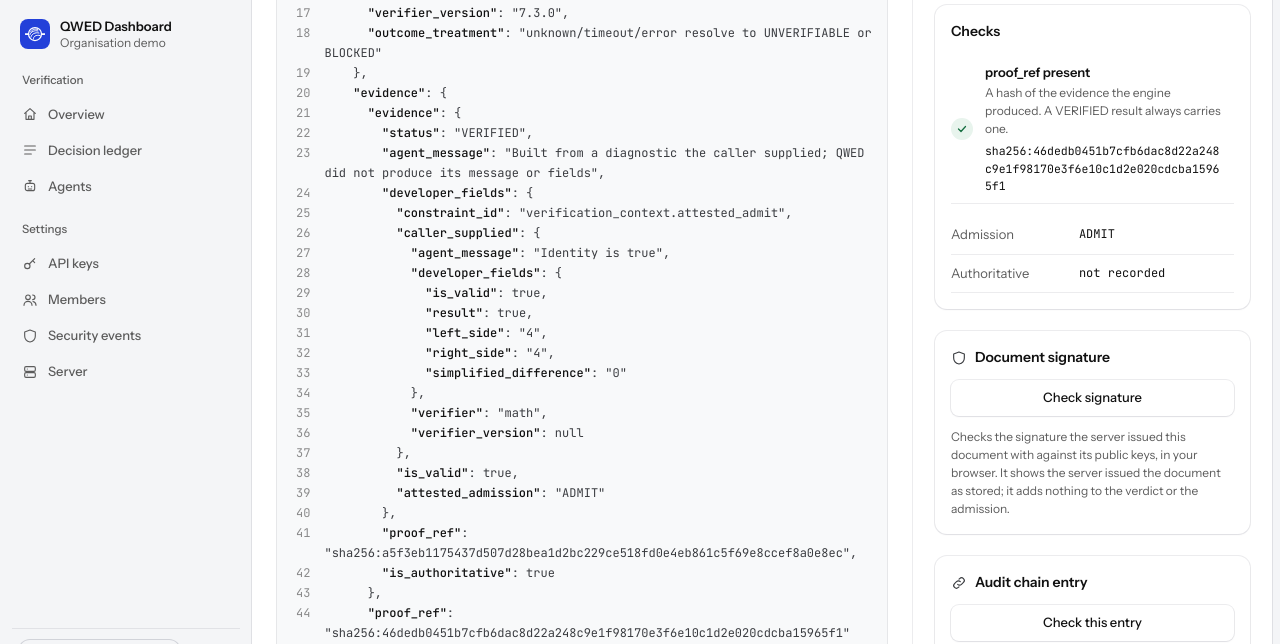
DocumentSignatureCheck › says the keys could not be loaded
(page scrolled)
Click the button "Check signature" at (1092, 398), box top-left (951, 380), bottom-right (1234, 416)
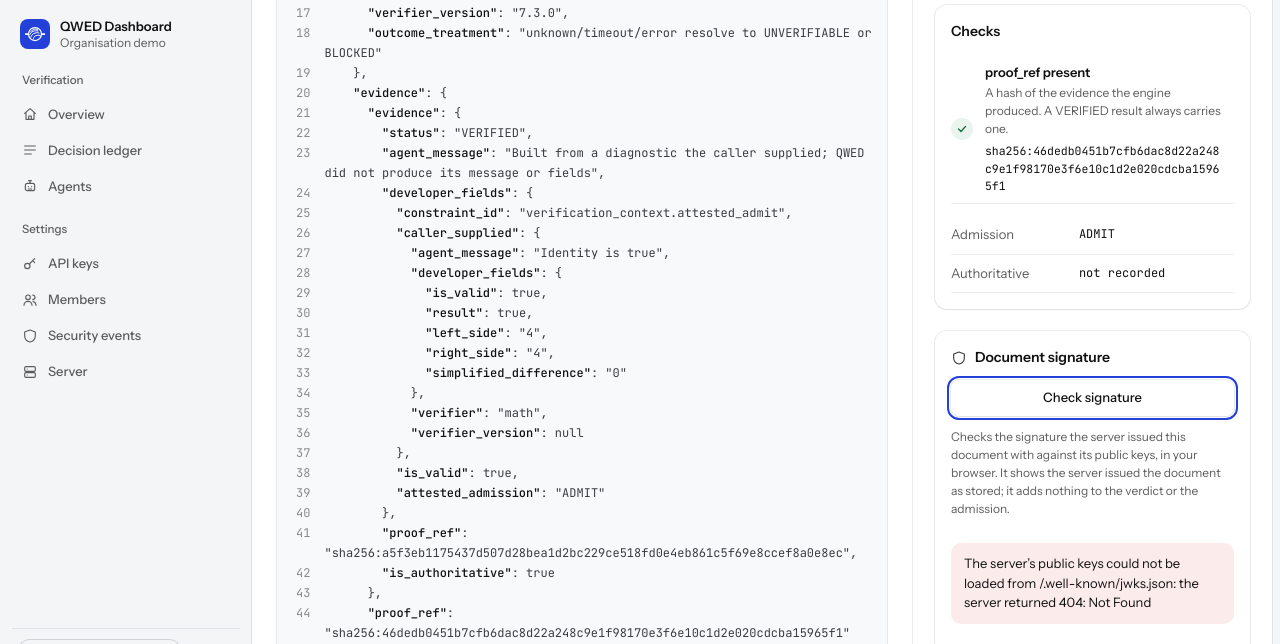
Expected: the message shows "The server’s public keys could not be loaded from /.well-known/jwks.json: the server returned 404: Not Found", top-left (964, 555), bottom-right (1199, 610)
